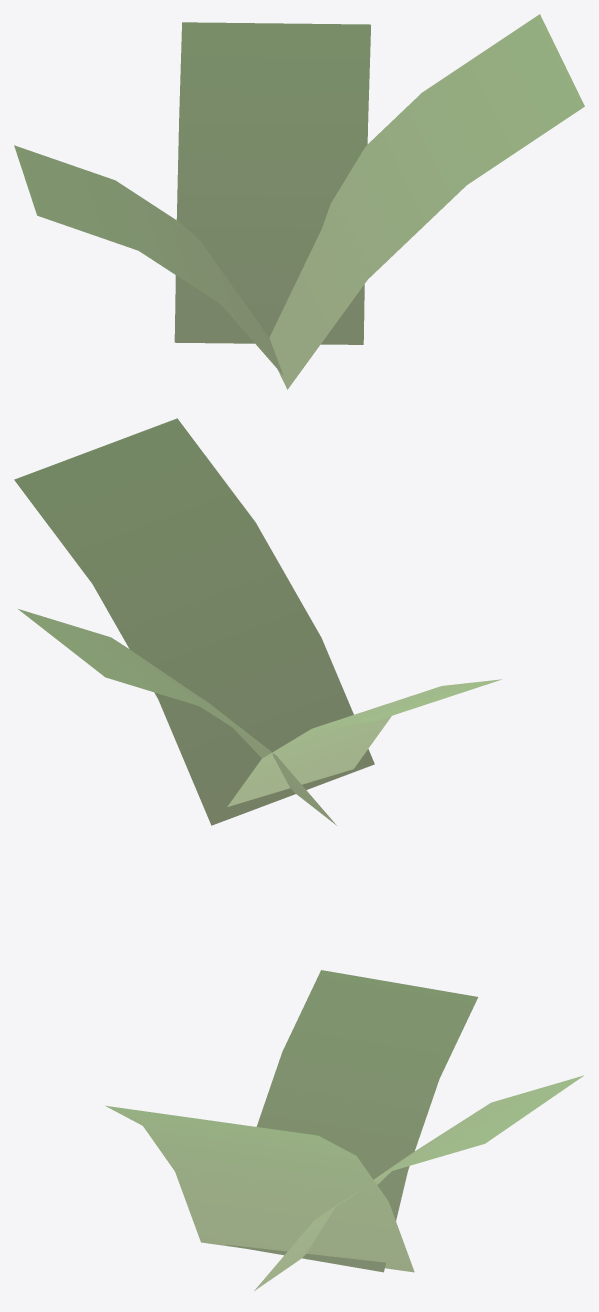
Rendered from cow_parsley.glb.
3 views of the same model, one above another, from view 1: azimuth 30°, elevation 25°; view 2: azimuth 150°, elevation 25°; view 3: azimuth 270°, elevation 25° (orthographic). The views are drawn at different scales.
Parts seen in each view (by area): view 1: LOD0; view 2: LOD0; view 3: LOD0.
Part boxes in pixels (x1,y1,x2,y2): LOD0: (14,14,584,389); LOD0: (14,418,501,825); LOD0: (105,970,583,1290).
Size of the model in its own units: 0.7243 by 0.326 by 0.6496.
